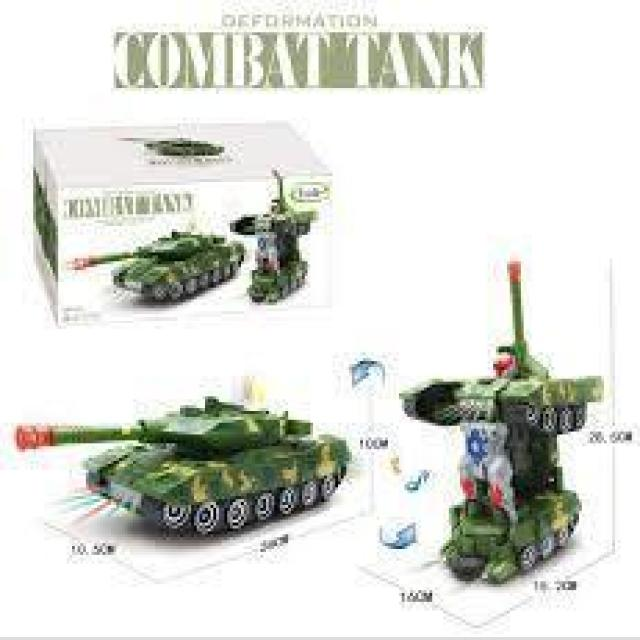Tanks: (390, 275, 596, 612), (14, 398, 352, 544)
